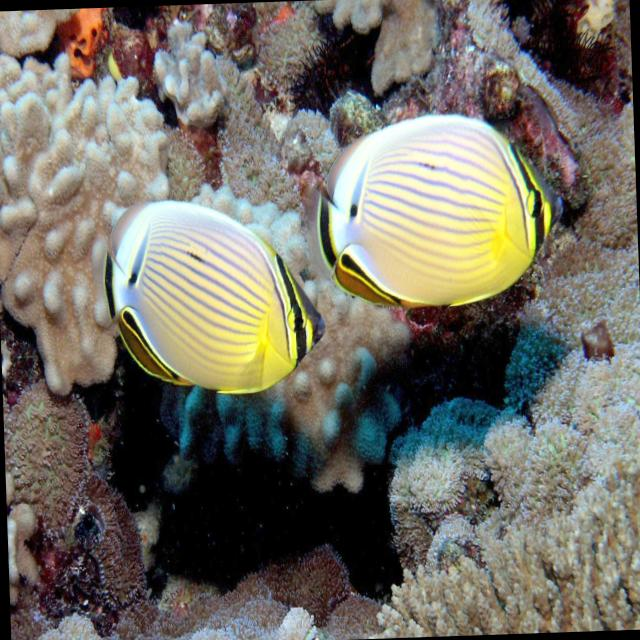ButterflyFish: (314, 107, 565, 318), (92, 196, 328, 400)
